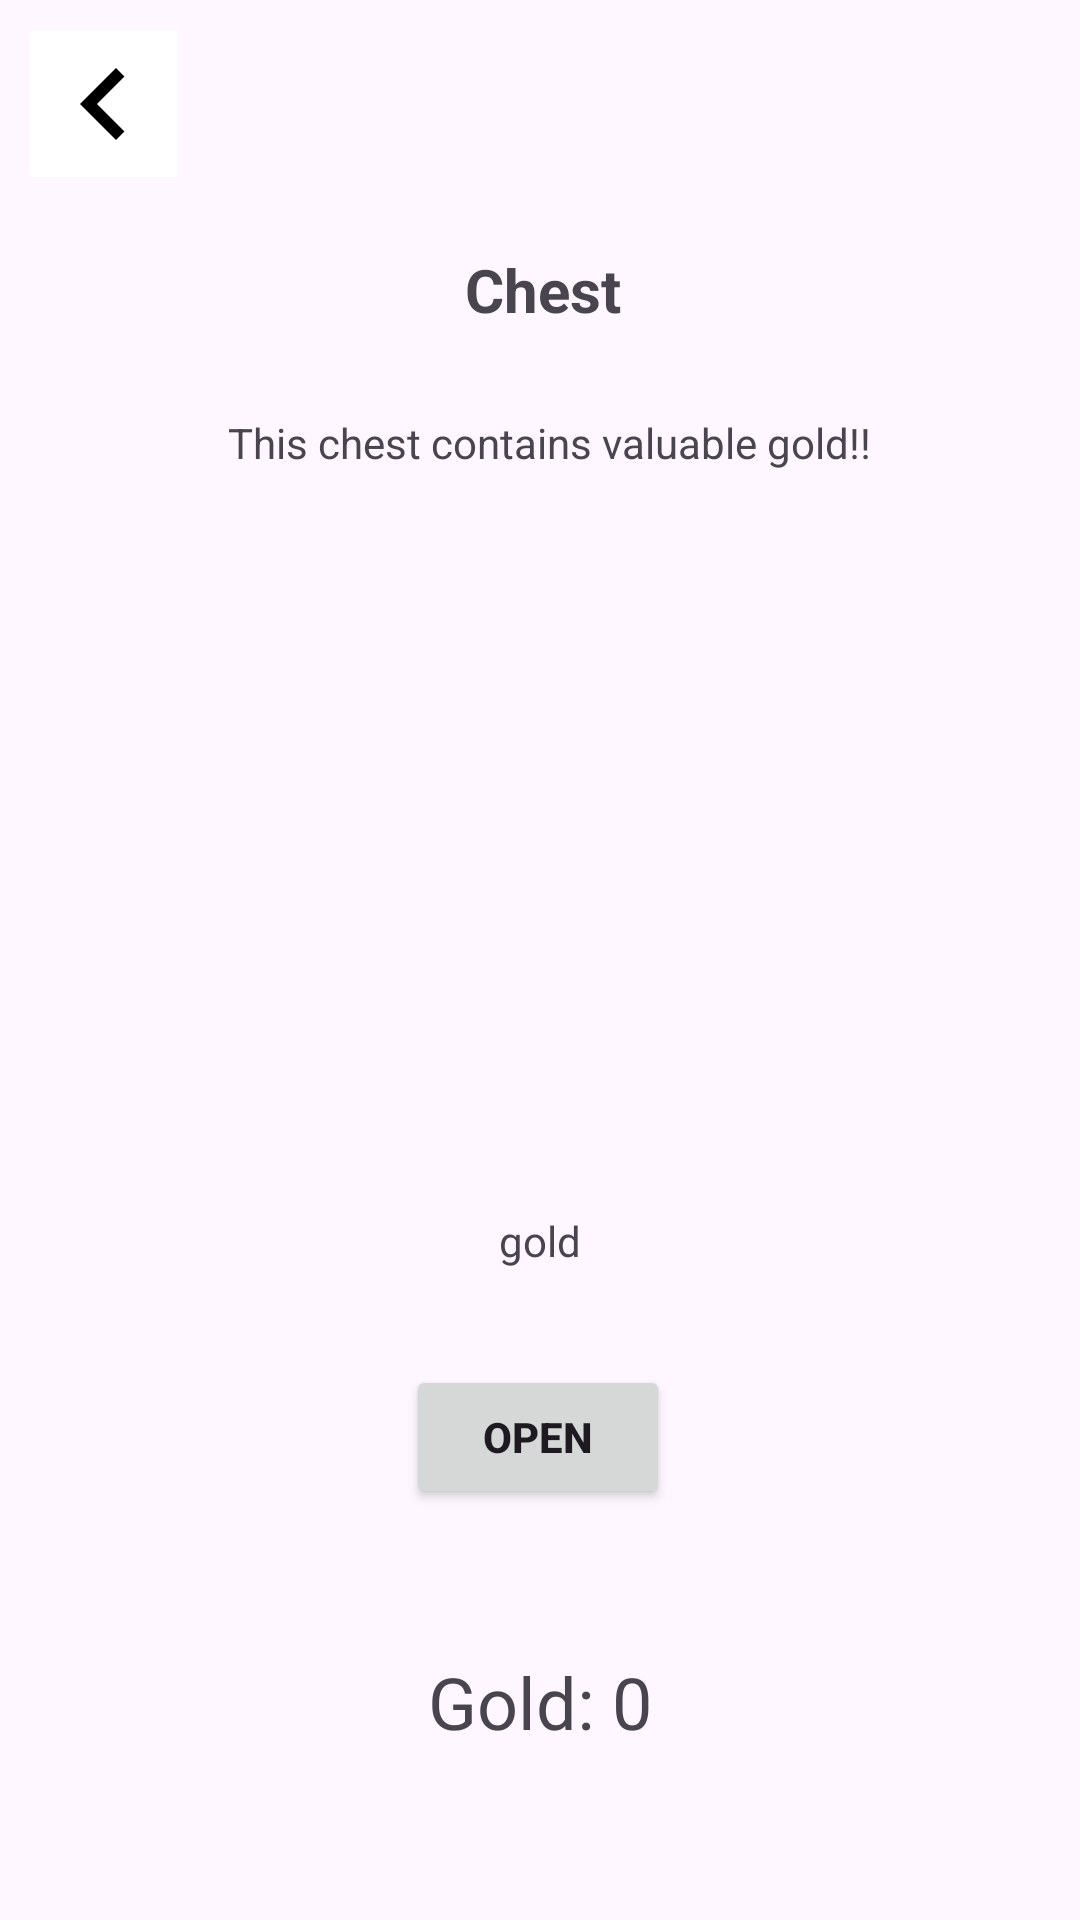

Icons on this 1080px×1920px Android screen, each with the point to tap as (x=x, y=y):
chevron left: (x=102, y=104)
